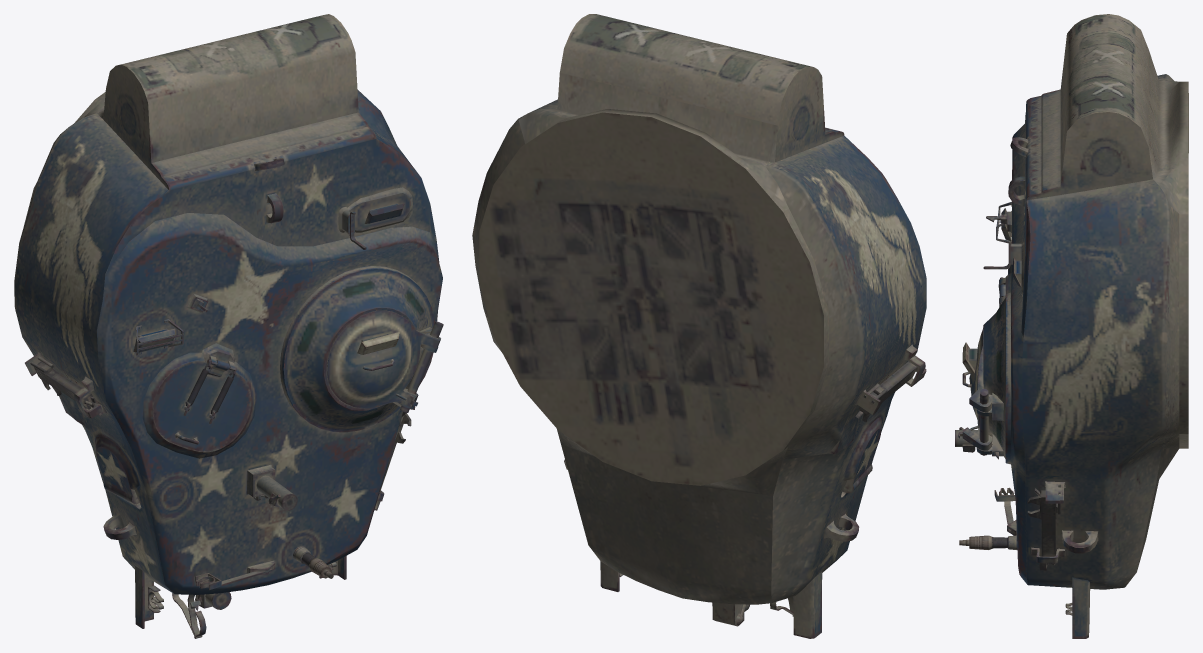
File: Turret_01.glb
3 views of the same model, side by side, from view 1: azimuth 30°, elevation 25°; view 2: azimuth 150°, elevation 25°; view 3: azimuth 270°, elevation 25° (orthographic). The views are drawn at different scales.
Parts seen in each view (by area): view 1: set_0_group_0; view 2: set_0_group_0; view 3: set_0_group_0.
Boxes of the visible parts, x1,y1,x2,y2 form: set_0_group_0: (14, 14, 443, 638); set_0_group_0: (472, 14, 926, 638); set_0_group_0: (955, 14, 1188, 638).
Size of the model in its own units: 2.31 by 3.29 by 1.3.
Materials: 1 (1 with a texture image).
